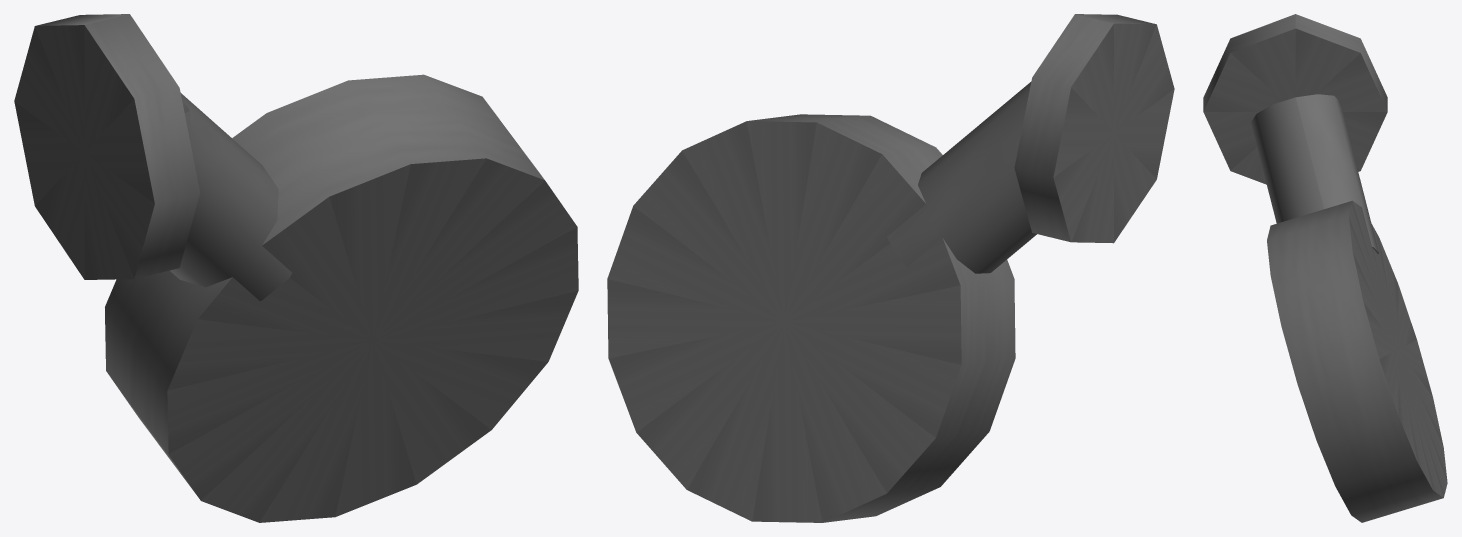
The model's file is mastarmcurve_10x2_c2_west.obj.
3 renders of one model, left to right at view 1: azimuth 30°, elevation 25°; view 2: azimuth 150°, elevation 25°; view 3: azimuth 270°, elevation 25°, orthographic. The views are drawn at different scales.
Visible parts, largest first — view 1: mastarm_10x2_c2_west; view 2: mastarm_10x2_c2_west; view 3: mastarm_10x2_c2_west.
Part boxes in pixels (<box>): mastarm_10x2_c2_west: <box>14,14,578,522</box>; mastarm_10x2_c2_west: <box>607,14,1174,522</box>; mastarm_10x2_c2_west: <box>1203,14,1447,522</box>.
Size of the model in its own units: 0.837 by 0.9498 by 0.5298.
